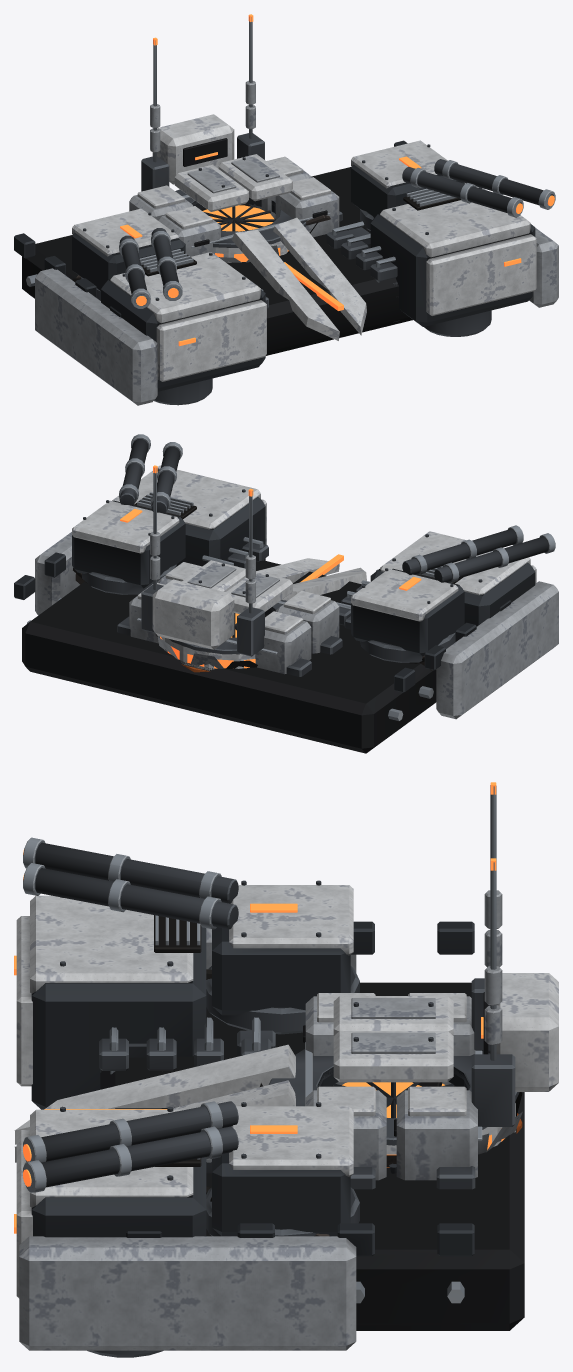
The model's file is warden.glb.
3 views of the same model, one above another, from view 1: azimuth 30°, elevation 25°; view 2: azimuth 150°, elevation 25°; view 3: azimuth 270°, elevation 25° (orthographic). The views are drawn at different scales.
Parts seen in each view (by area): view 1: warden_hull, warden_pod_right, warden_pod_left, warden_core, warden_core_hatch_0, warden_core_hatch_1; view 2: warden_hull, warden_pod_left, warden_pod_right, warden_core, warden_core_hatch_0, warden_core_hatch_1, warden_core_wreck; view 3: warden_hull, warden_pod_left, warden_pod_right, warden_core_hatch_1, warden_core_hatch_0, warden_core, warden_core_wreck.
Part boxes in pixels (bbox=[...]): warden_hull: bbox=[14, 14, 558, 405]; warden_pod_right: bbox=[351, 140, 555, 230]; warden_pod_left: bbox=[72, 208, 185, 308]; warden_core: bbox=[175, 189, 330, 262]; warden_core_hatch_0: bbox=[174, 164, 248, 211]; warden_core_hatch_1: bbox=[218, 154, 292, 201]; warden_hull: bbox=[14, 465, 558, 753]; warden_pod_left: bbox=[351, 525, 555, 662]; warden_pod_right: bbox=[72, 434, 185, 594]; warden_core: bbox=[137, 600, 287, 672]; warden_core_hatch_0: bbox=[226, 571, 292, 614]; warden_core_hatch_1: bbox=[182, 560, 245, 591]; warden_core_wreck: bbox=[155, 615, 267, 670]; warden_hull: bbox=[14, 782, 558, 1357]; warden_pod_left: bbox=[23, 837, 359, 1034]; warden_pod_right: bbox=[23, 1101, 359, 1236]; warden_core_hatch_1: bbox=[333, 1031, 453, 1082]; warden_core_hatch_0: bbox=[333, 996, 453, 1035]; warden_core: bbox=[268, 1042, 522, 1173]; warden_core_wreck: bbox=[260, 1082, 522, 1167].
Bounding box in the file's own units: 6.42 × 3.59 × 4.37.
4 materials, 2 textured.
